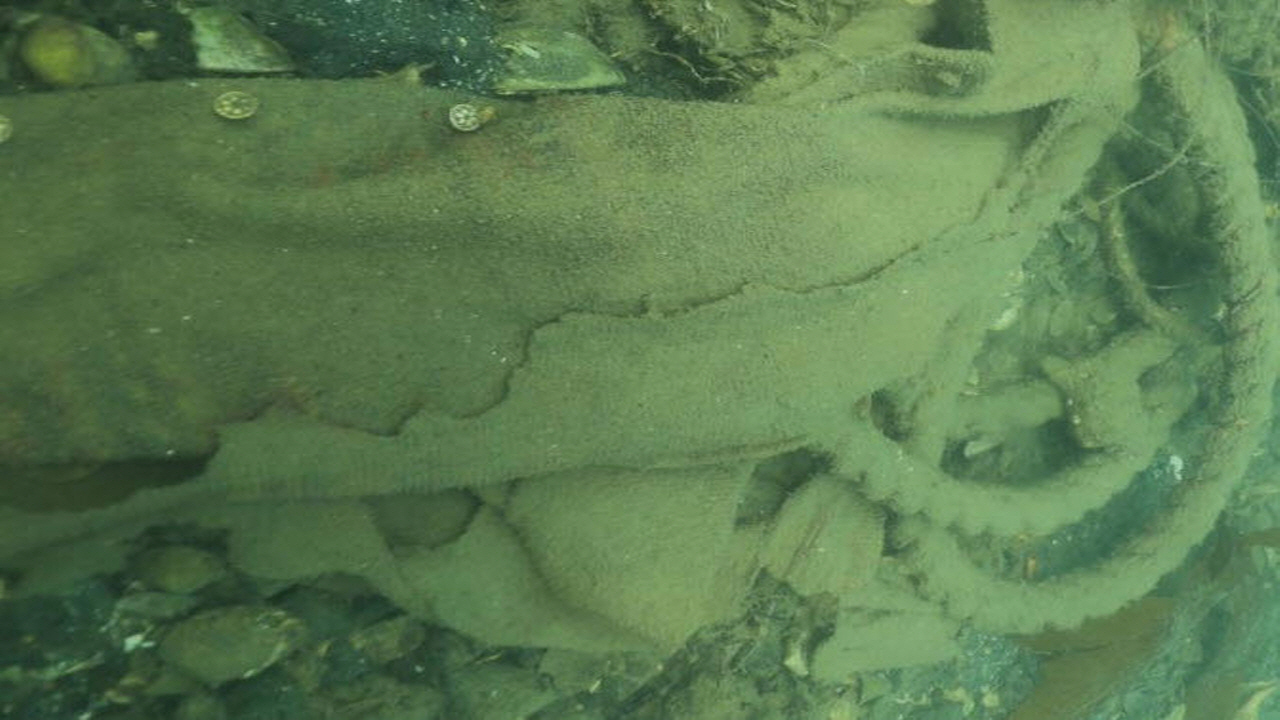bundle of ropes: (808, 10, 1280, 634)
